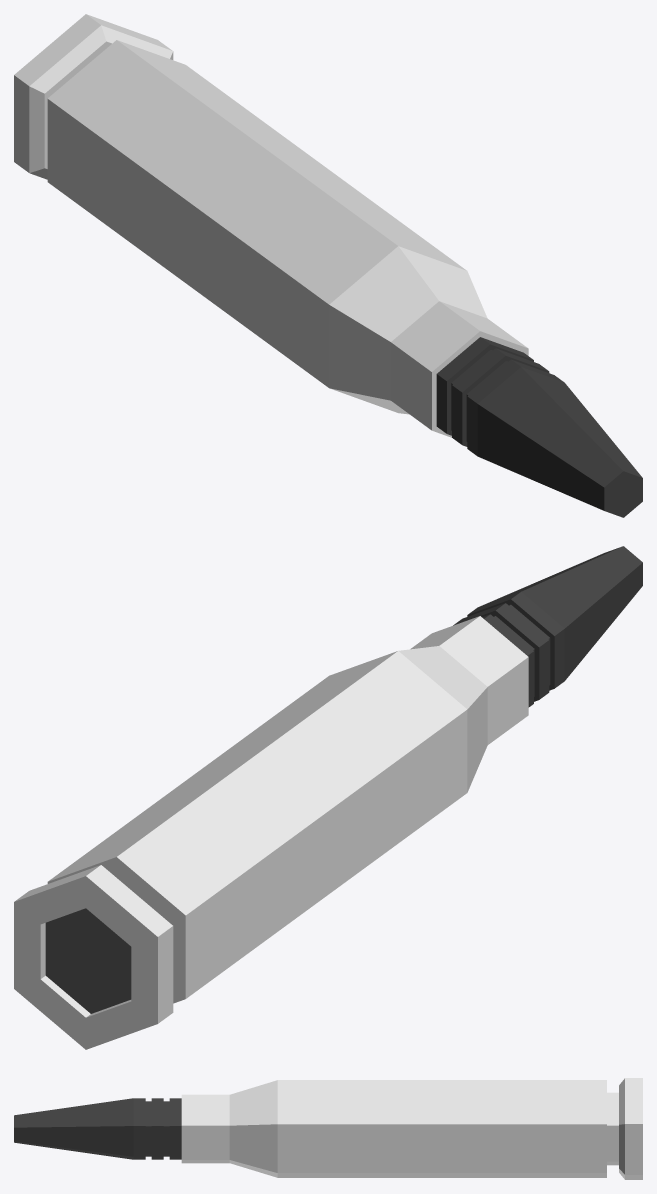
File: Bullet_Recon_B.fbx
3 views of the same model, one above another, from view 1: azimuth 30°, elevation 25°; view 2: azimuth 150°, elevation 25°; view 3: azimuth 270°, elevation 25° (orthographic). The views are drawn at different scales.
Visible parts, largest first — view 1: Bullet_Recon_B, Bullet_Recon_B_Part; view 2: Bullet_Recon_B, Bullet_Recon_B_Part; view 3: Bullet_Recon_B, Bullet_Recon_B_Part.
Part boxes in pixels (x1,y1,x2,y2): Bullet_Recon_B: [14, 14, 528, 437]; Bullet_Recon_B_Part: [436, 337, 642, 517]; Bullet_Recon_B: [14, 616, 528, 1049]; Bullet_Recon_B_Part: [453, 546, 642, 707]; Bullet_Recon_B: [181, 1078, 642, 1179]; Bullet_Recon_B_Part: [14, 1098, 181, 1159].
Size of the model in its own units: 0.0183 by 0.0211 by 0.1181.
